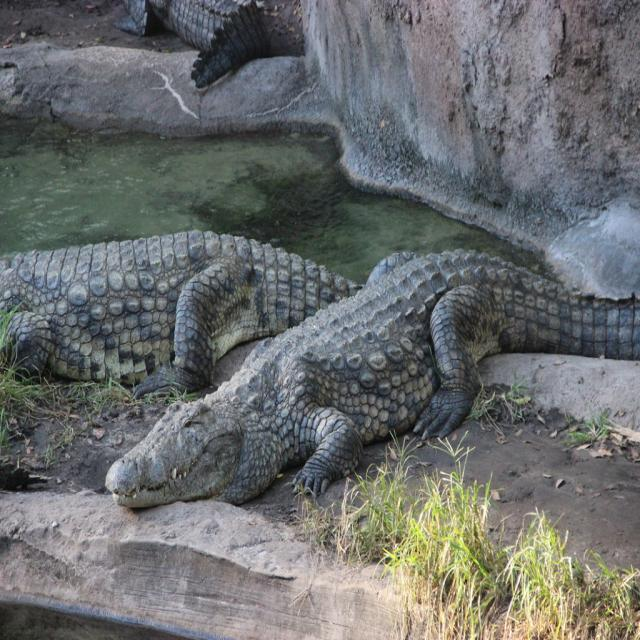crocodile: (106, 237, 639, 514)
